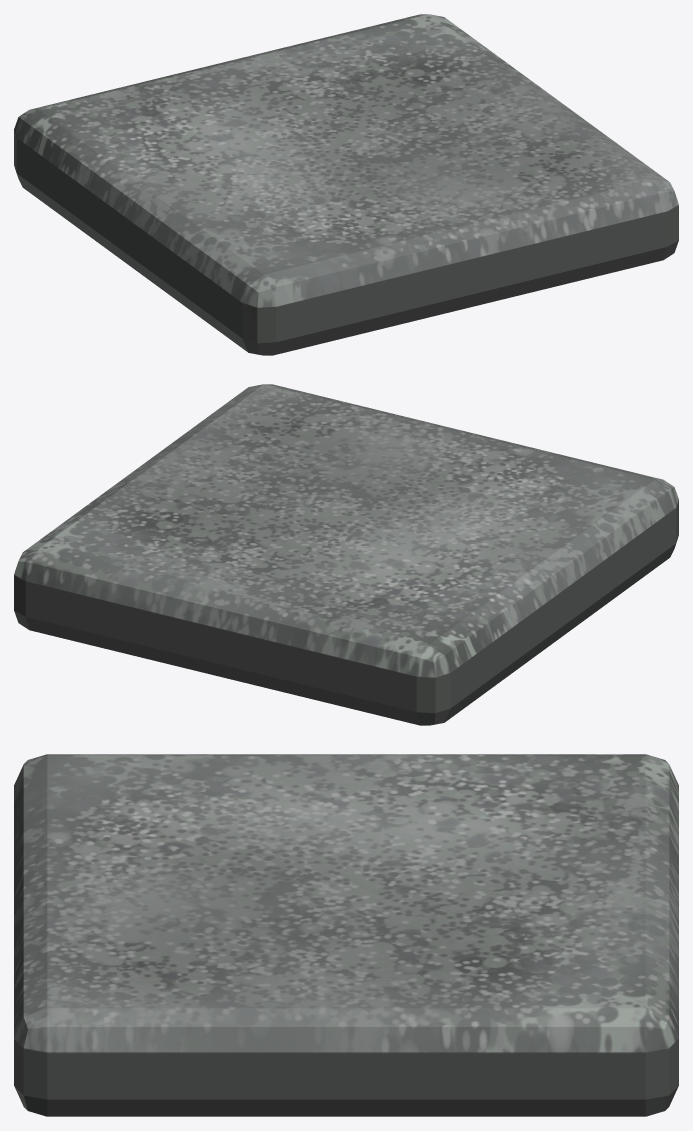
The model's file is Death Tile.fbx.
The picture shows the model from 3 angles, top to bottom: view 1: azimuth 30°, elevation 25°; view 2: azimuth 150°, elevation 25°; view 3: azimuth 270°, elevation 25°; orthographic projection. The views are drawn at different scales.
Parts seen in each view (by area): view 1: Death Tile; view 2: Death Tile; view 3: Death Tile.
Boxes of the visible parts, x1=… form: Death Tile: x1=14, y1=14, x2=678, y2=355; Death Tile: x1=14, y1=384, x2=678, y2=725; Death Tile: x1=14, y1=754, x2=678, y2=1116.
Bounding box in the file's own units: 200 × 35.66 × 200.
